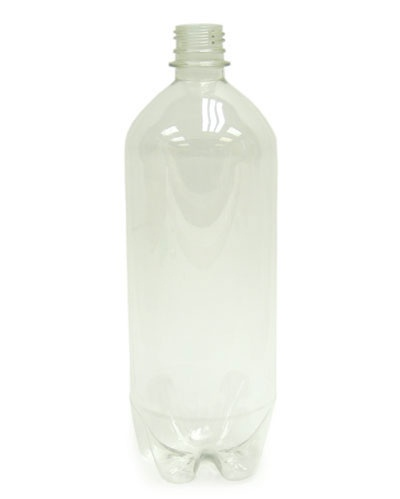emptybottle: (124, 23, 277, 478)
